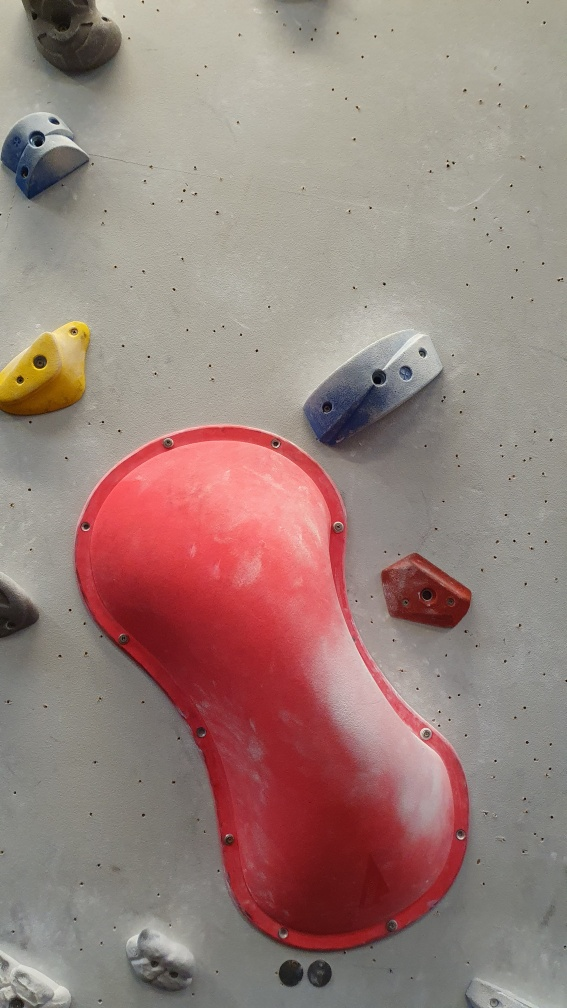Crimp: (378, 545, 477, 637)
Hand Start: (276, 955, 306, 991), (308, 954, 337, 990)
Jug: (121, 926, 202, 994)
Pinch: (299, 324, 449, 447), (1, 105, 94, 204)
